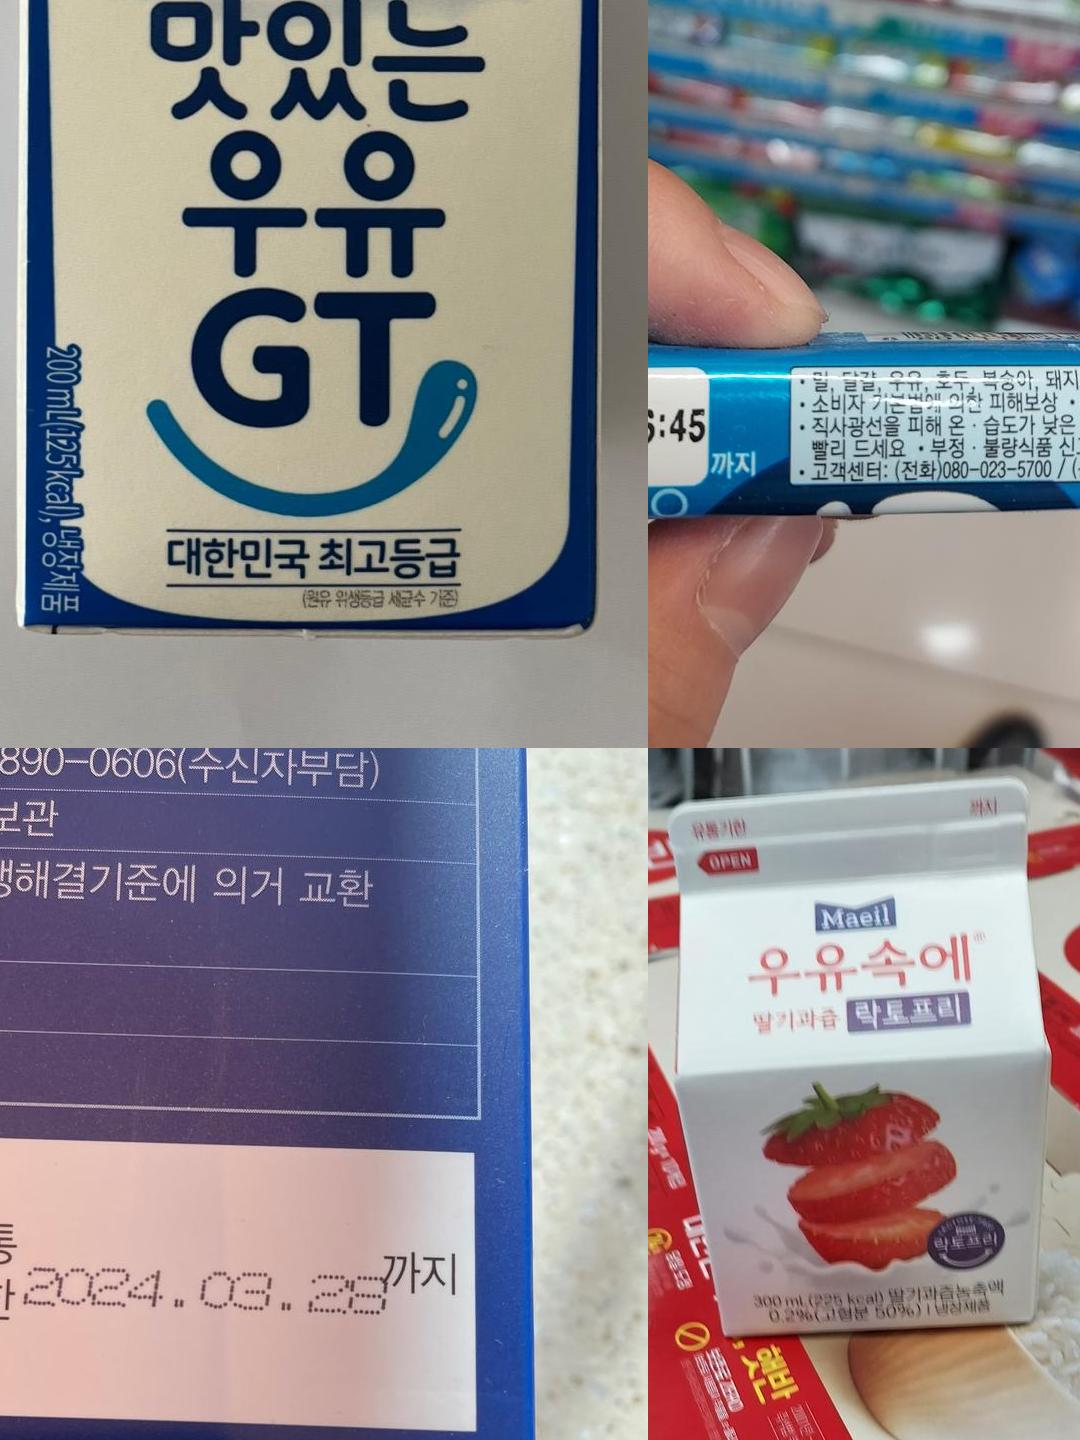gum: (648, 369, 791, 478)
milk: (672, 783, 1032, 886), (68, 0, 524, 54)
snack food: (0, 1132, 486, 1428)
